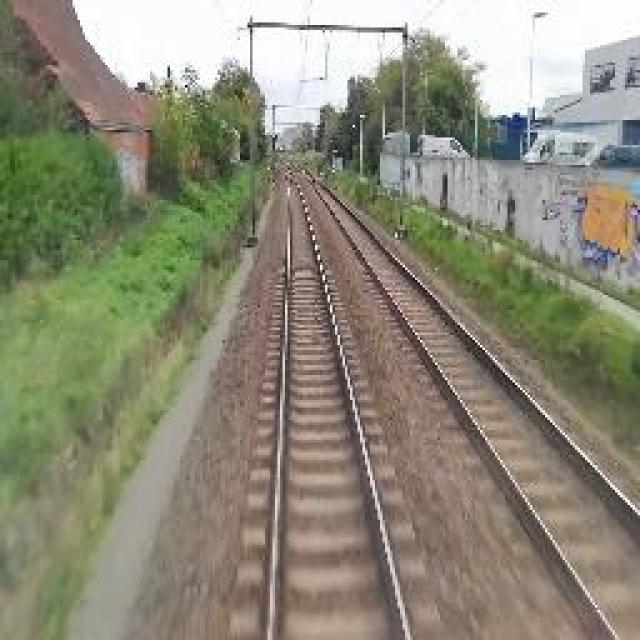rail: (222, 169, 446, 636)
